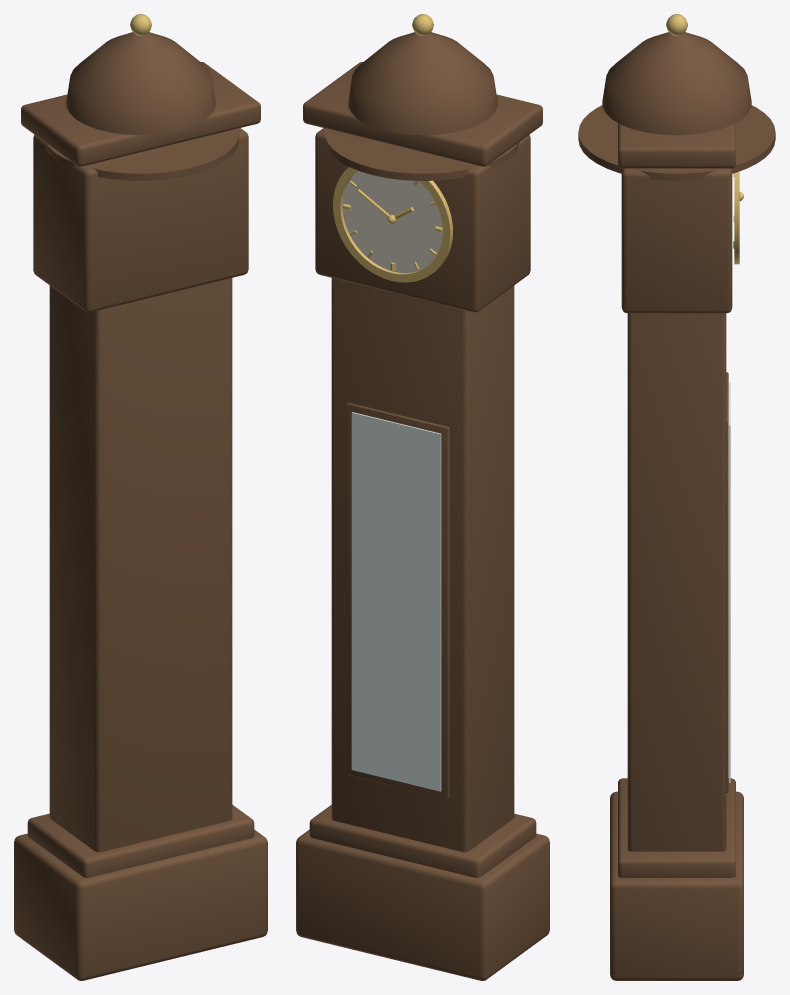
File: arr_orologio.fbx
3 views of the same model, side by side, from view 1: azimuth 30°, elevation 25°; view 2: azimuth 150°, elevation 25°; view 3: azimuth 270°, elevation 25° (orthographic).
Visible parts, largest first — view 1: arr_orologio_noce; view 2: arr_orologio_noce, arr_orologio_vetro, arr_orologio_quadrante, arr_orologio_ottone; view 3: arr_orologio_noce, arr_orologio_ottone, arr_orologio_vetro.
Part boxes in pixels (box(x1,y1,x2,y2)): arr_orologio_noce: box(14, 32, 267, 980); arr_orologio_noce: box(296, 32, 549, 980); arr_orologio_vetro: box(351, 412, 441, 791); arr_orologio_quadrante: box(342, 171, 442, 272); arr_orologio_ottone: box(333, 14, 452, 282); arr_orologio_noce: box(578, 32, 775, 980); arr_orologio_ottone: box(666, 14, 743, 264); arr_orologio_vetro: box(729, 382, 730, 782).
Size of the model in its own units: 0.56 by 2.58 by 0.5.
